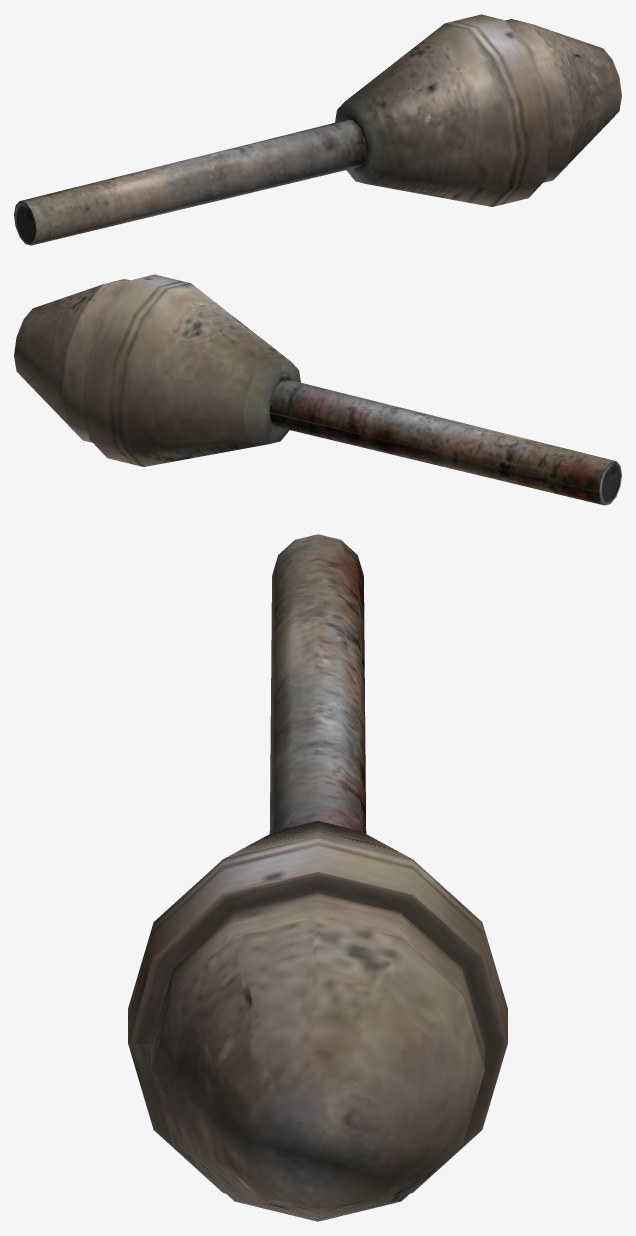
Rendered from weapon_panzerfaust_rocket.glb.
The picture shows the model from 3 angles, top to bottom: view 1: azimuth 30°, elevation 25°; view 2: azimuth 150°, elevation 25°; view 3: azimuth 270°, elevation 25°; orthographic projection. The views are drawn at different scales.
Bounding box in the file's own units: 21.75 × 6.19 × 6.19.
Materials: 1 (1 with a texture image).
